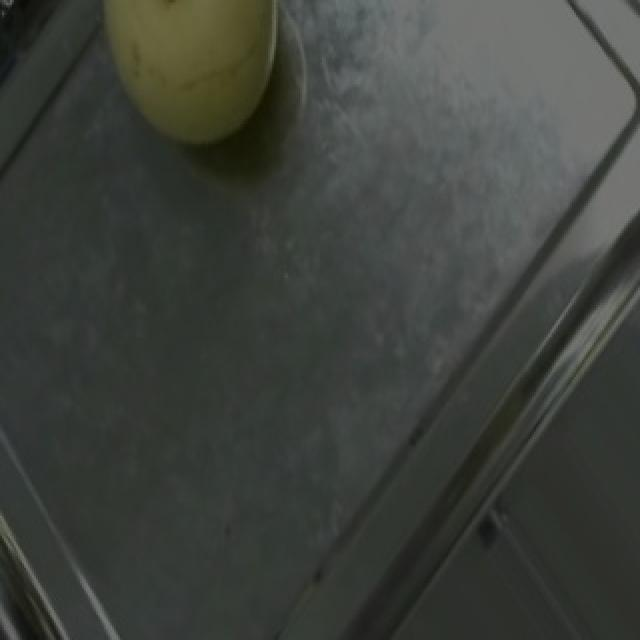Fruit: (64, 0, 322, 186)
